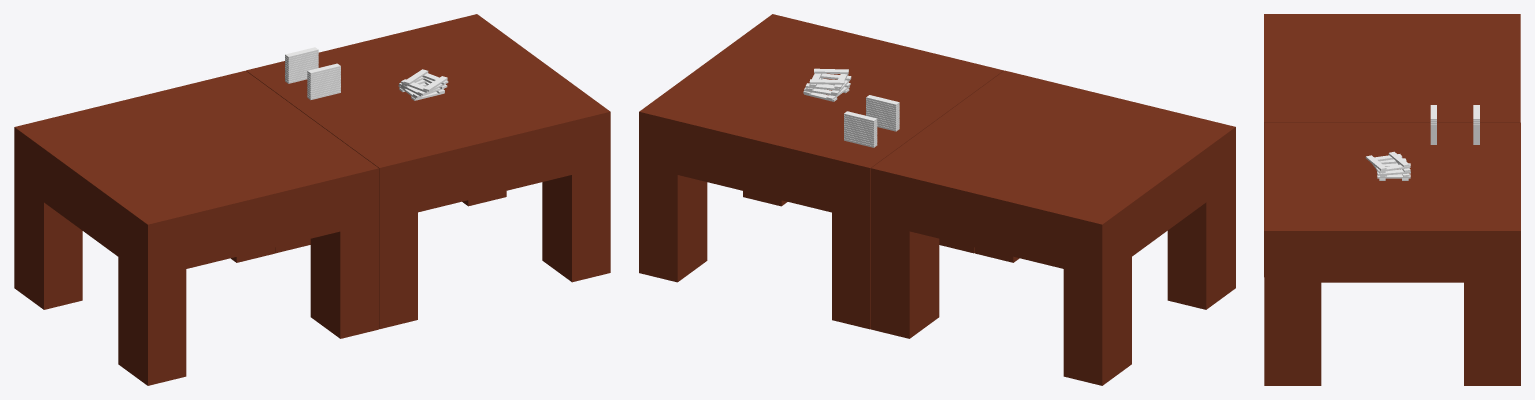
File: keva_spiral_14.dae
3 renders of one model, left to right at view 1: azimuth 30°, elevation 25°; view 2: azimuth 150°, elevation 25°; view 3: azimuth 270°, elevation 25°, orthographic. The views are drawn at different scales.
Parts seen in each view (by area): view 1: base (×7); view 2: base (×7); view 3: base (×4).
Boxes of the visible parts, x1,y1,x2,y2 form: base (×7): [14, 14, 610, 385]; base (×7): [639, 14, 1235, 385]; base (×4): [1264, 14, 1520, 385].
Size of the model in its own units: 1.8 by 0.9009 by 0.701.
